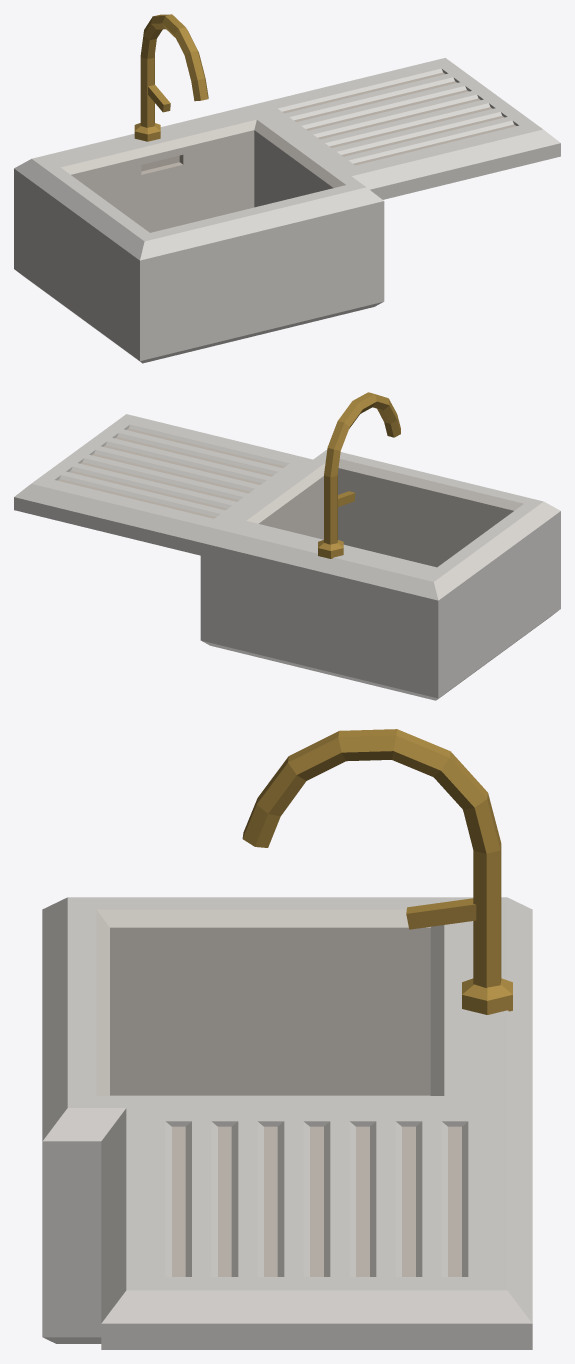
The model's file is kitchen-sink-7ea438.glb.
The picture shows the model from 3 angles, top to bottom: view 1: azimuth 30°, elevation 25°; view 2: azimuth 150°, elevation 25°; view 3: azimuth 270°, elevation 25°; orthographic projection. The views are drawn at different scales.
Parts seen in each view (by area): view 1: kitchen-sink, tap-spout; view 2: kitchen-sink, tap-spout; view 3: kitchen-sink, tap-spout, tap-lever.
Part boxes in pixels (x1,y1,x2,y2): kitchen-sink: (14,58,560,363); tap-spout: (140,14,208,127); kitchen-sink: (14,414,560,700); tap-spout: (324,392,400,544); kitchen-sink: (42,897,532,1349); tap-spout: (242,729,501,987); tap-lever: (406,898,476,929).
Bounding box in the file's own units: 1 × 0.5619 × 0.5.
